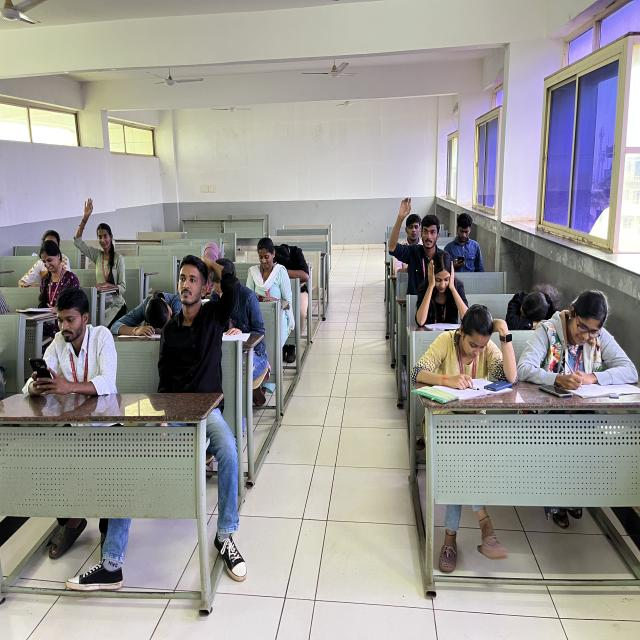Hand Rising: (388, 193, 448, 289), (75, 196, 127, 294)
Reading: (407, 300, 523, 413), (412, 250, 472, 334)
Sleeping: (502, 281, 572, 341), (120, 288, 187, 346)
Using Phone: (22, 290, 126, 416), (242, 236, 295, 310), (442, 209, 484, 276)
Writing: (526, 291, 637, 399)
